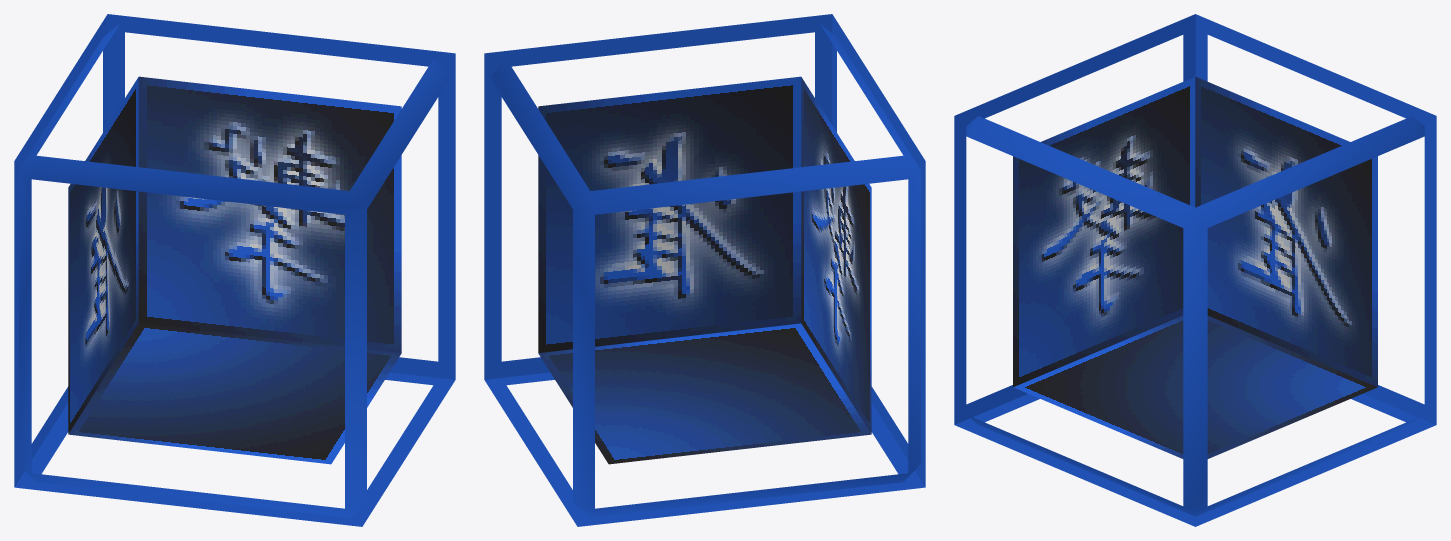
File: ps2_save-icons_simple2000seriesvol4thedoublemahjongpuzzle.glb
The picture shows the model from 3 angles, left to right: view 1: azimuth 30°, elevation 25°; view 2: azimuth 150°, elevation 25°; view 3: azimuth 270°, elevation 25°; orthographic projection. The views are drawn at different scales.
Parts seen in each view (by area): view 1: geki.ico; view 2: geki.ico; view 3: geki.ico.
Part boxes in pixels (<box>): geki.ico: <box>14,14,455,526</box>; geki.ico: <box>484,14,925,526</box>; geki.ico: <box>954,14,1436,526</box>.
Size of the model in its own units: 4.43 by 3.13 by 4.43.
1 material, 1 textured.
